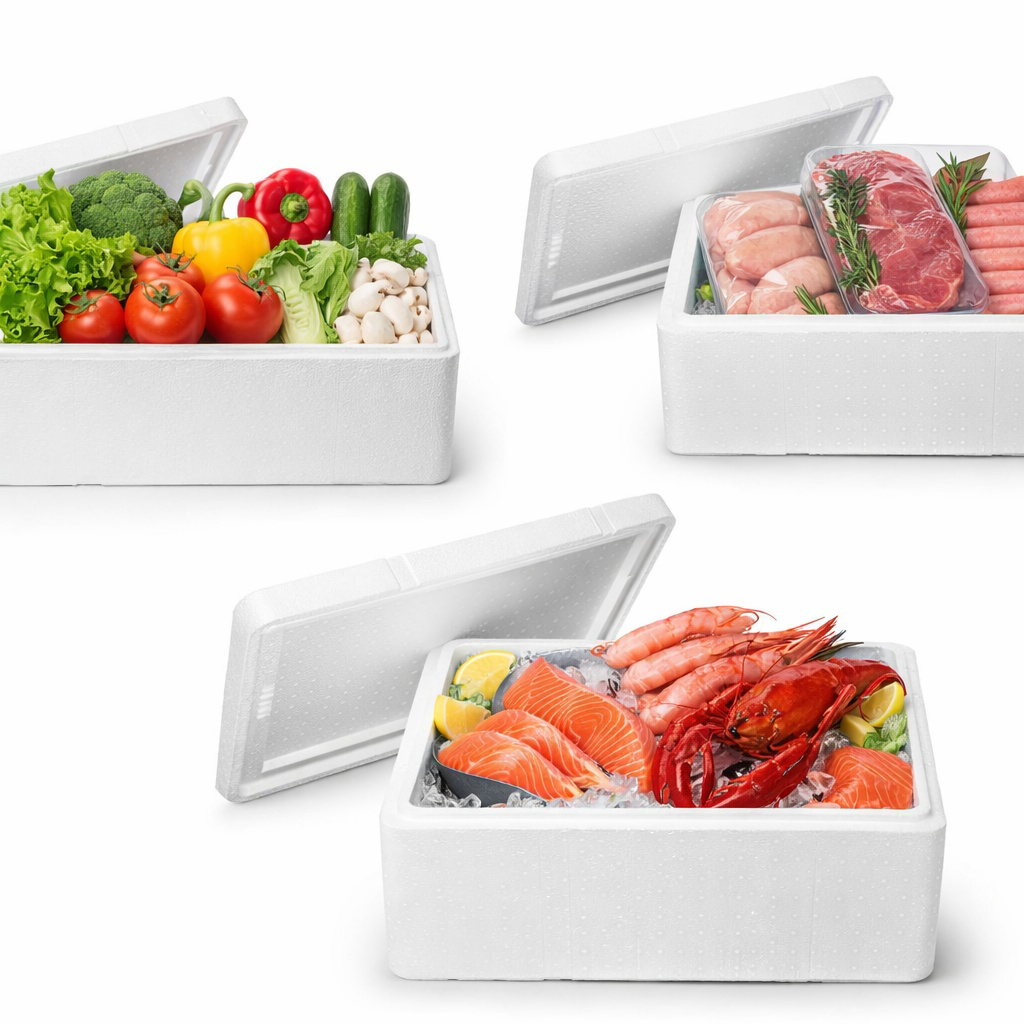泡沫箱: (217, 496, 946, 983), (516, 77, 1023, 456), (0, 180, 480, 488)
